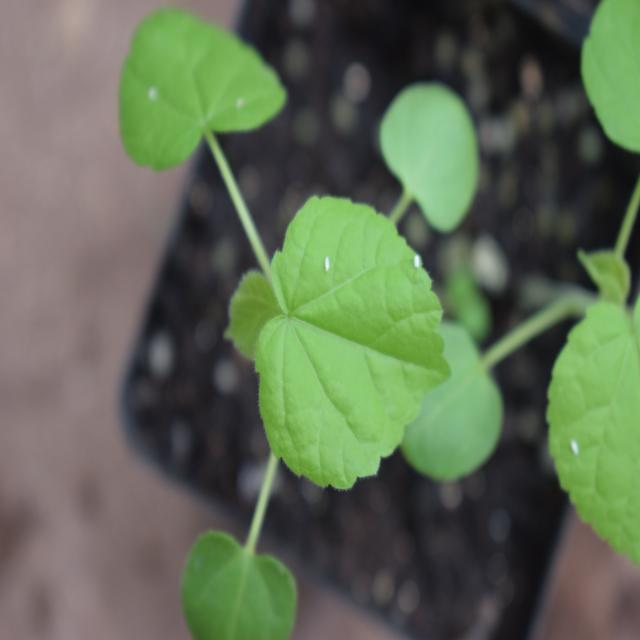abutilon theophrasti: (114, 8, 512, 606)
